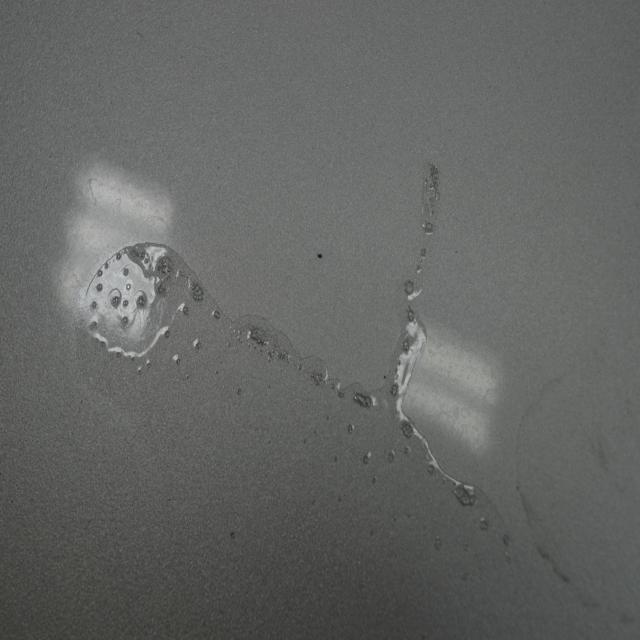dirt: (315, 248, 326, 263)
runs: (72, 150, 542, 640)
water marks: (509, 360, 640, 637)
